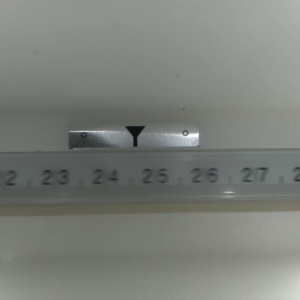2: (4, 170, 17, 187), (190, 167, 202, 184), (141, 168, 153, 184), (39, 170, 51, 186), (240, 167, 252, 183), (93, 169, 104, 185)
3: (57, 169, 68, 186)
5: (157, 168, 168, 184)
6: (206, 167, 218, 184)
7: (256, 167, 268, 183)
finger: (123, 126, 145, 147)
